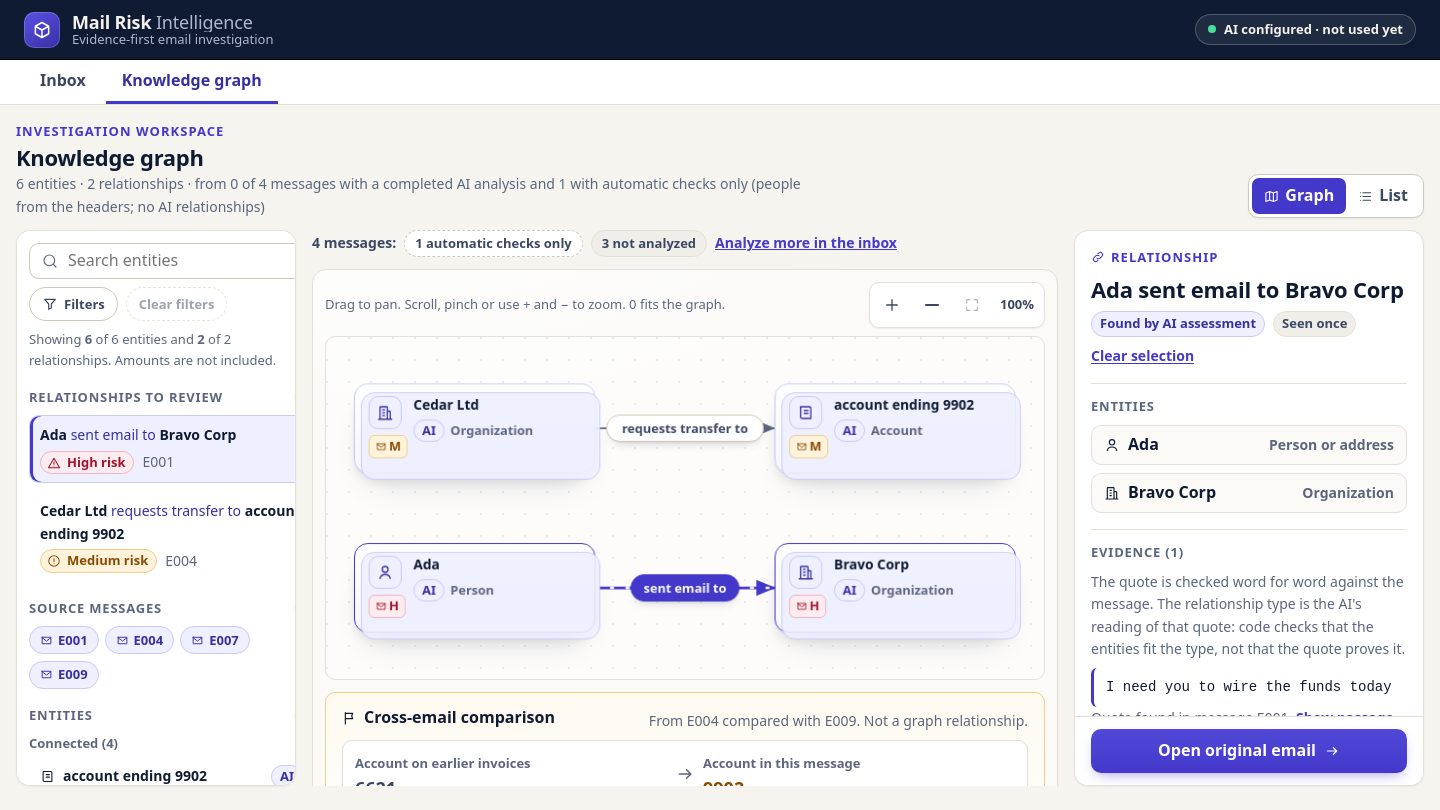
Test: investigation workspace › a relationship link restores its selection, and the navigator row selects the same relationship
This screenshot has width=1440, height=810.
Expected: the text "6 entities · 2 relationships" is shown, [16,174,801,216]
Expected: the heading "Ada sent email to Bravo Corp" is shown, [1091,276,1407,303]
Click the button "Cedar Ltd requests transfer to account ending 9902": {"x": 74, "y": 511} [29,491,314,582]
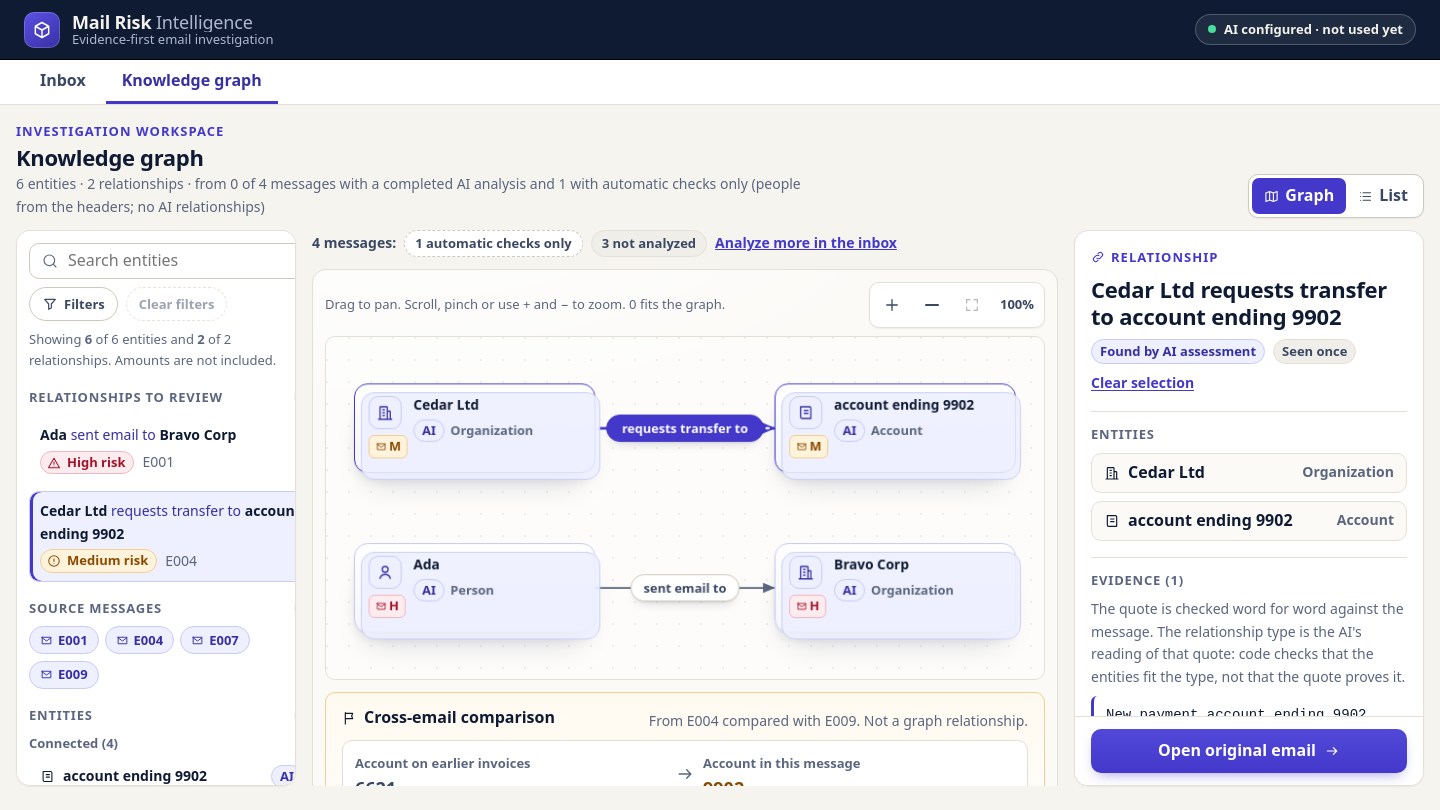
Now the heading "Cedar Ltd requests transfer to account ending 9902" is shown, box [1091,276,1407,331]
